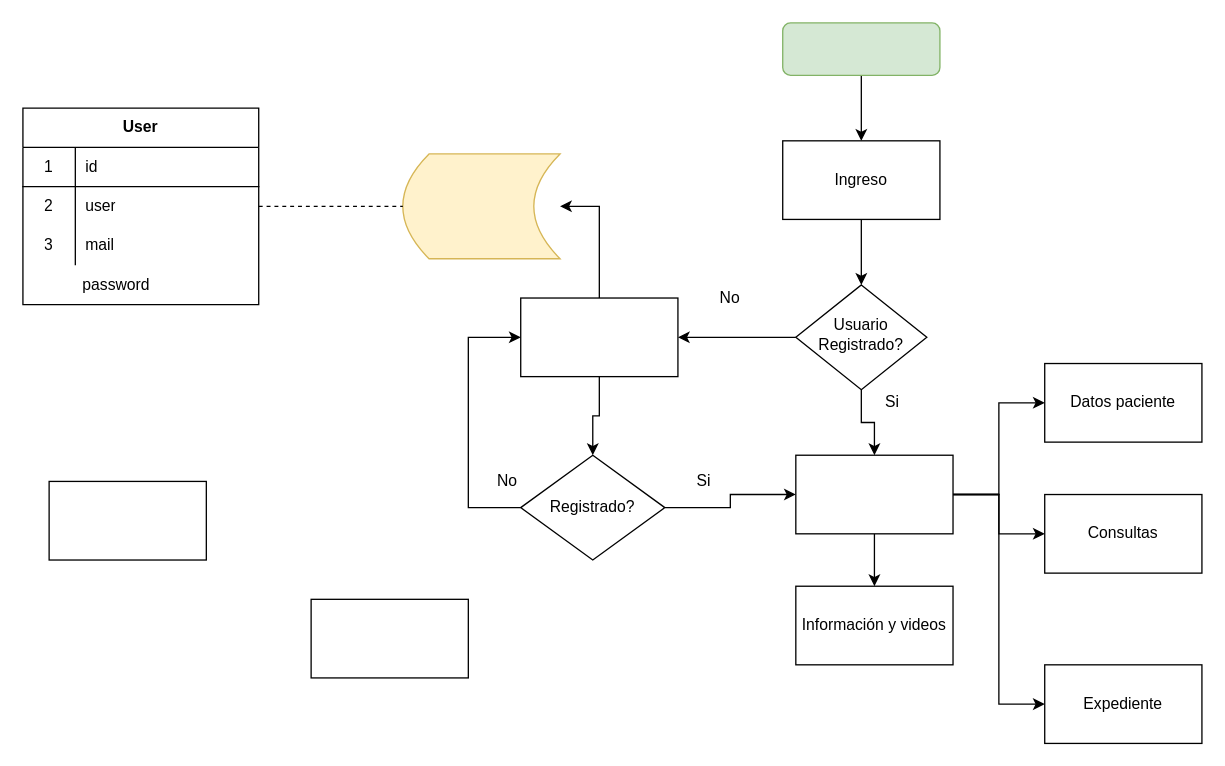
The diagram is 1225 pixels wide and 766 high, and some of its shapes have lost their labels. The shapes that lost their labels are listed below. From the top down, each one's box as (x1, y1, x2, y2) in pixels, then its label:
(781, 22, 940, 75): Inicio
(402, 153, 560, 259): Storage Save
(519, 297, 678, 377): Registro
(795, 454, 953, 534): Panel de usuario
